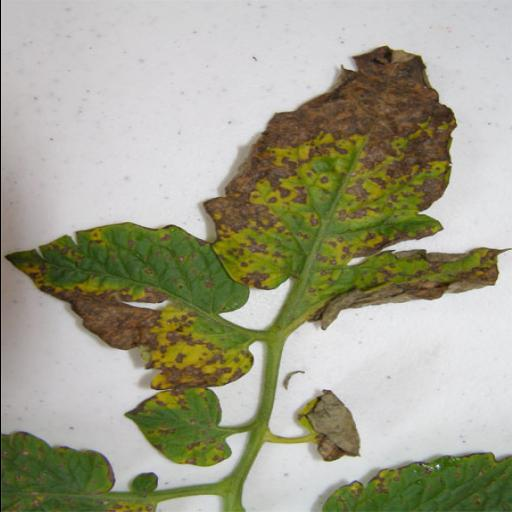disease_tomato: (204, 44, 512, 330), (0, 222, 264, 392), (1, 427, 167, 512), (292, 451, 512, 512), (122, 382, 238, 466)
